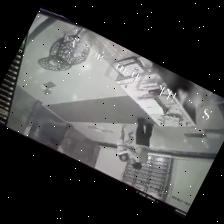person: (128, 117, 153, 168), (116, 123, 132, 160)
